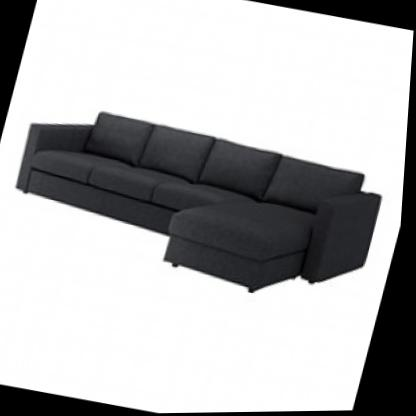Sofa: (0, 53, 407, 334)
